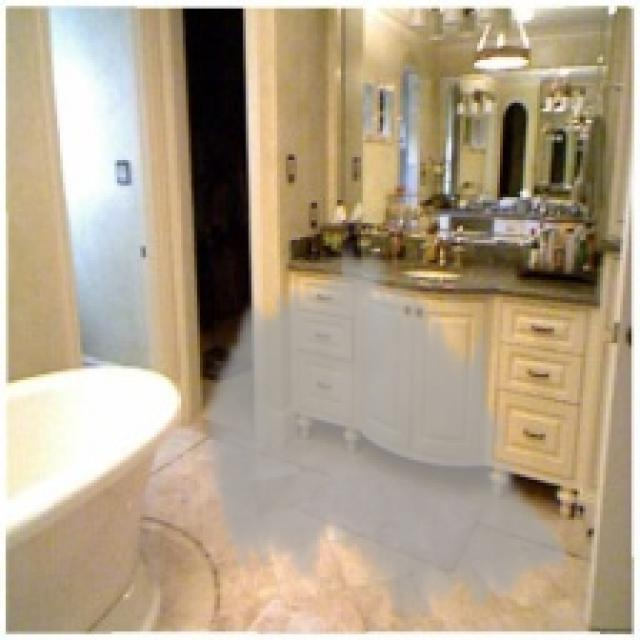Smoke: (199, 237, 572, 637)
